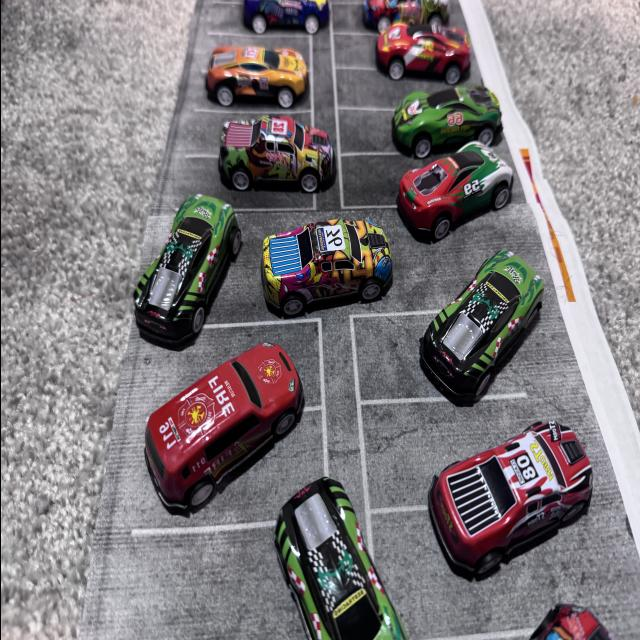car: (132, 352, 328, 504), (406, 423, 608, 565), (114, 190, 244, 406), (409, 229, 559, 406), (254, 463, 383, 640), (251, 221, 401, 323), (200, 94, 344, 196), (338, 16, 484, 96), (360, 98, 518, 164), (383, 148, 530, 215), (193, 42, 294, 110), (230, 0, 326, 33), (356, 0, 454, 27)
